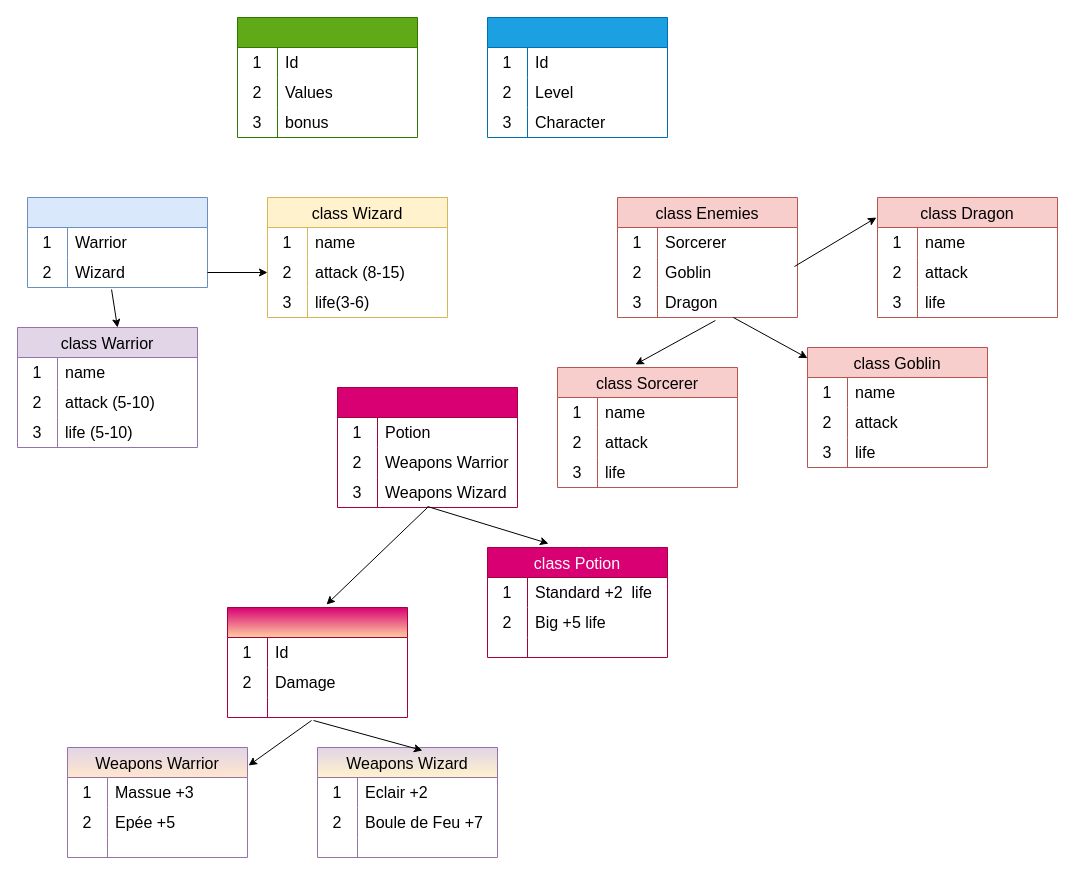
This 1075x875 diagram has some shape labels left out. Here are the shapes that lost their labels. From the top down, the box of each, then its label:
(236, 16, 418, 138): class GameBoard
(486, 16, 668, 138): class Player
(26, 196, 208, 288): class Character
(336, 386, 518, 508): class Bonus
(226, 606, 408, 718): class Weapons
